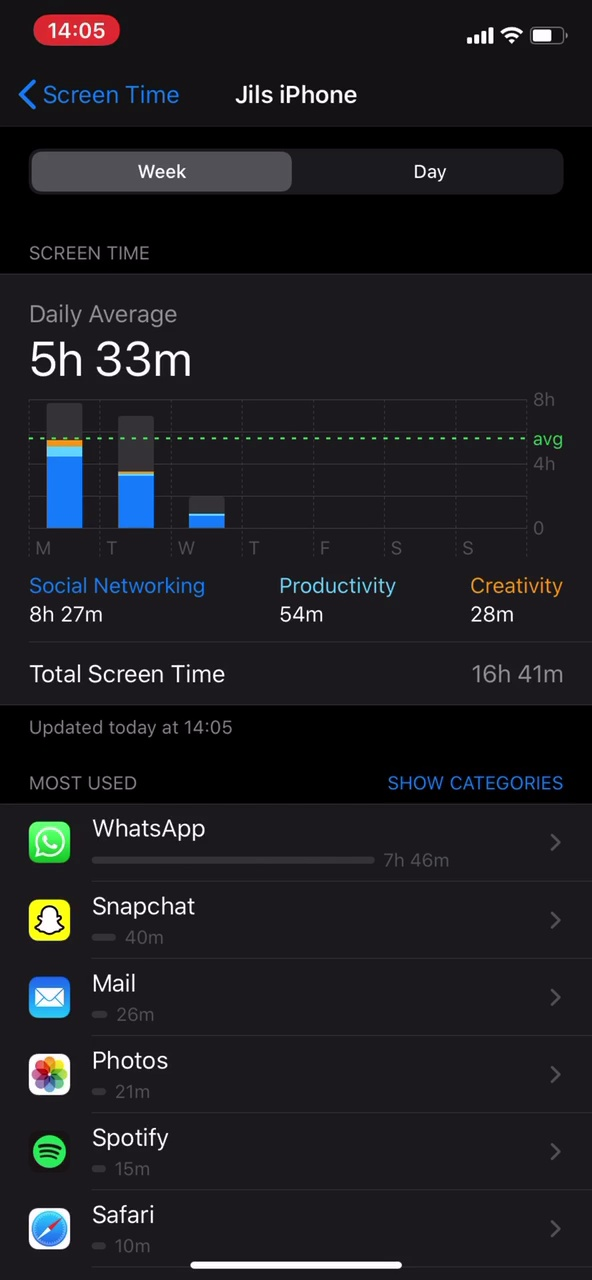use_over: (25, 574, 573, 707)
